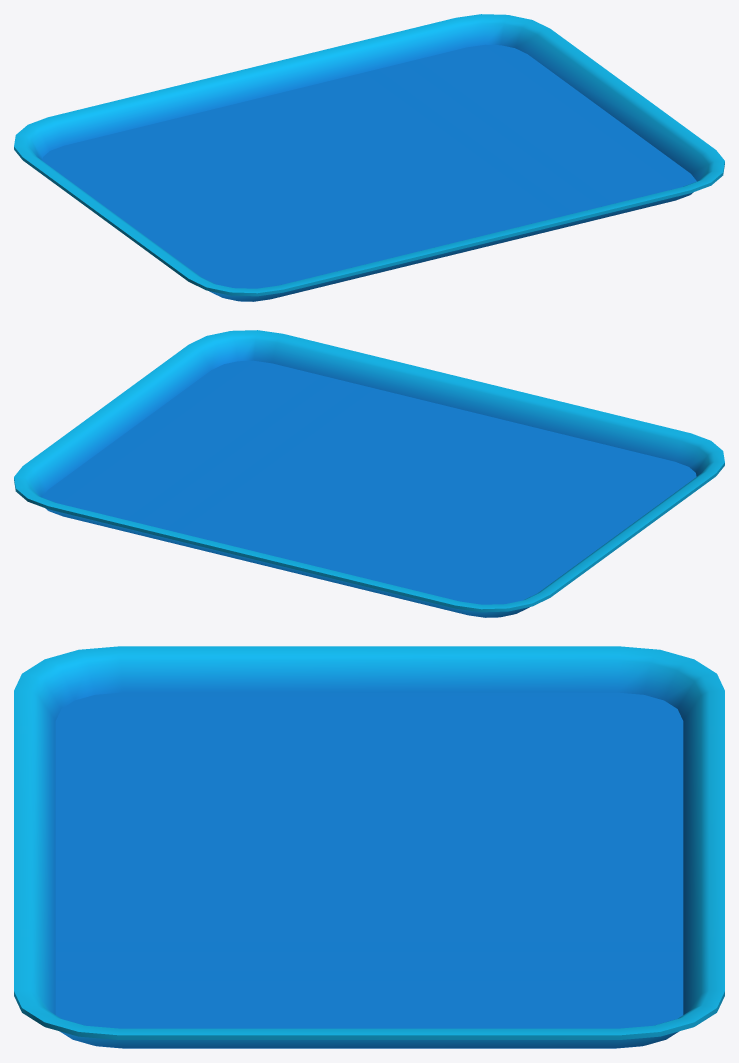
Rendered from Plate.fbx.
3 renders of one model, top to bottom at view 1: azimuth 30°, elevation 25°; view 2: azimuth 150°, elevation 25°; view 3: azimuth 270°, elevation 25°, orthographic. The views are drawn at different scales.
Visible parts, largest first — view 1: Plate; view 2: Plate; view 3: Plate.
Boxes of the visible parts, x1,y1,x2,y2 form: Plate: (14,14,724,301); Plate: (14,330,724,617); Plate: (14,646,724,1048).
Size of the model in its own units: 763 by 30.36 by 590.
